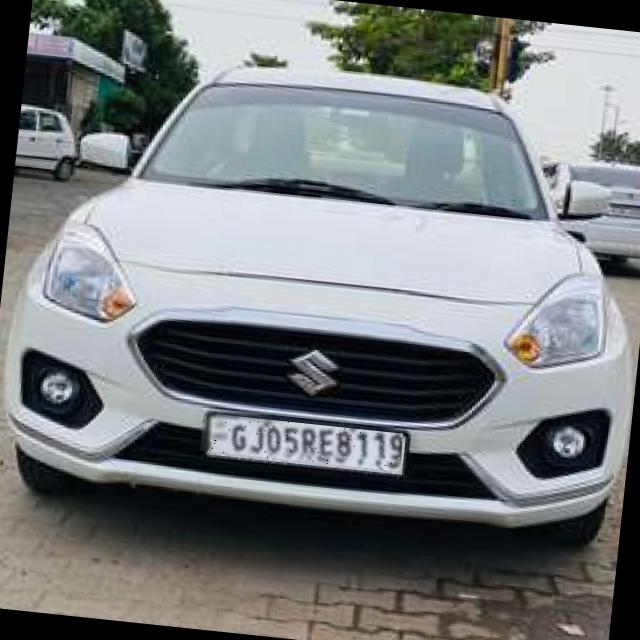Plate: (201, 413, 404, 472)
